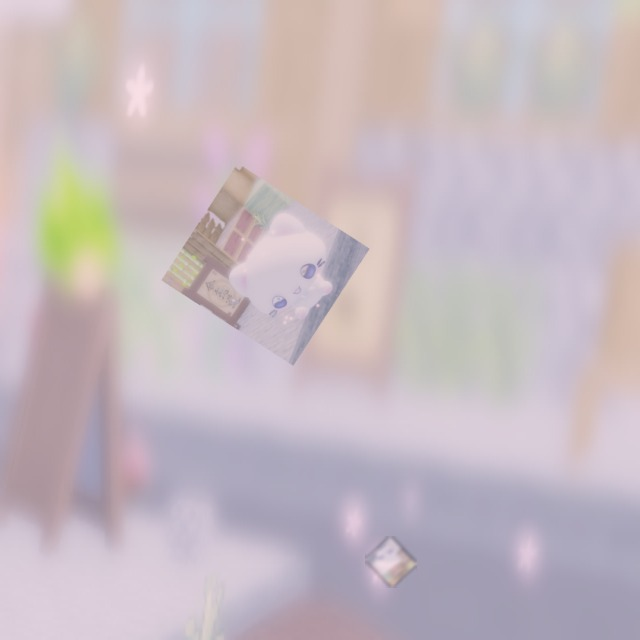urso_branco: (161, 163, 370, 366), (365, 536, 417, 588)
